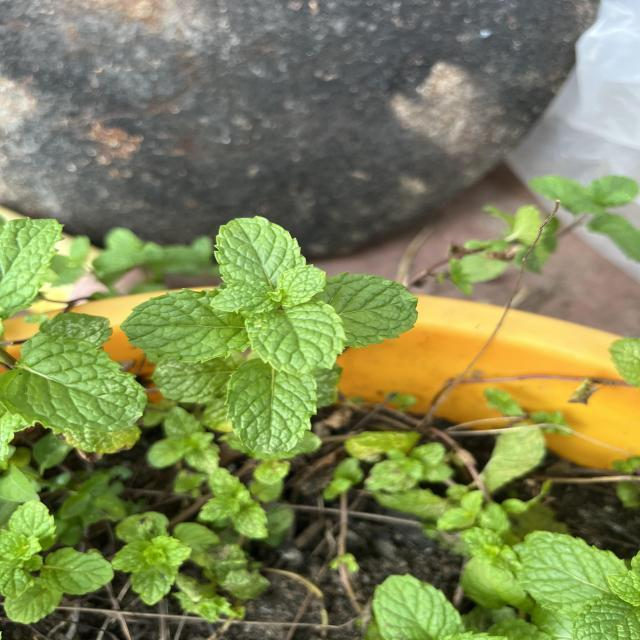Mentha spicata: (0, 332, 148, 437), (118, 286, 252, 364), (224, 357, 318, 455), (245, 299, 348, 376), (323, 270, 420, 350), (212, 214, 306, 285)
